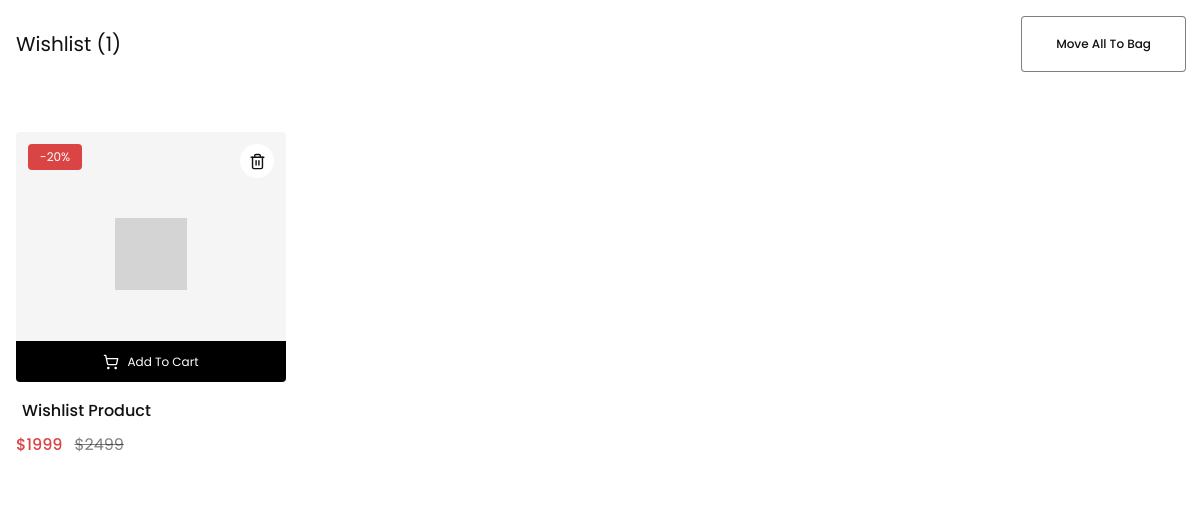
Test: WishlistPage › shows an action error and reloads when remove fails
Check: the button "Wishlist Product" is shown, box [16, 398, 157, 424]
What coordinates should you click on to do the following:
click the button named "Remove Wishlist Product"
I would click on:
 (257, 161)
Its box is [240, 144, 274, 178].
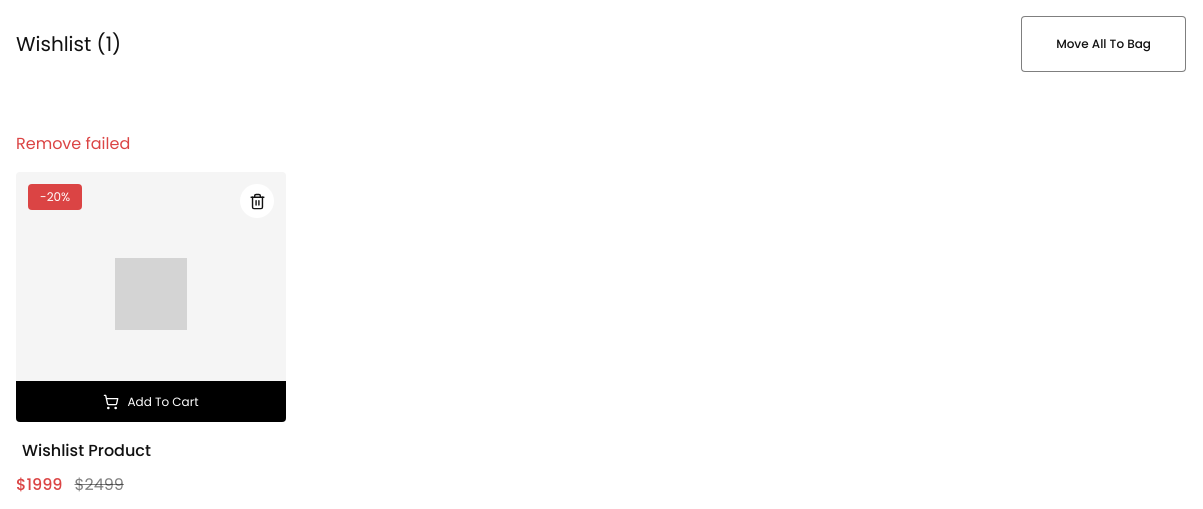
Check: the button "Wishlist Product" is shown, box [16, 438, 157, 464]
Check: the text "Remove failed" is shown, box [16, 132, 130, 155]
